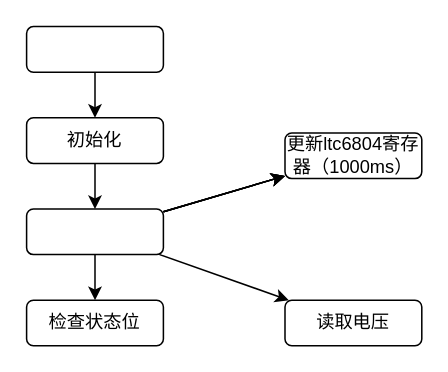
Image size: 448x372. Some labels were removed from this diagram. The shapes that lost their labels are listed below. From the top down, each one's centre as x and y in pixels, then its label:
the point at 94,48: 开始
the point at 94,231: 运行基本周期性任务
